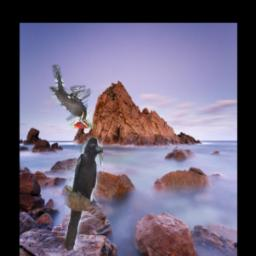Crow: (65, 138, 104, 251)
Woodpecker: (50, 65, 97, 128)
